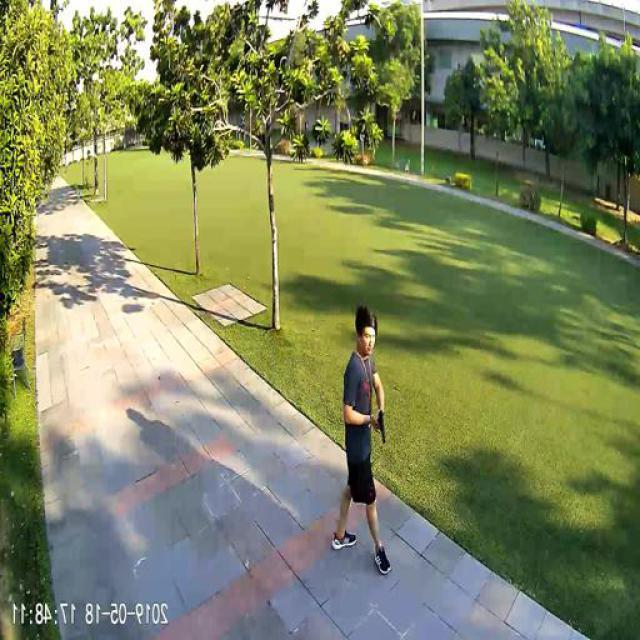Gun: (380, 408, 388, 443)
